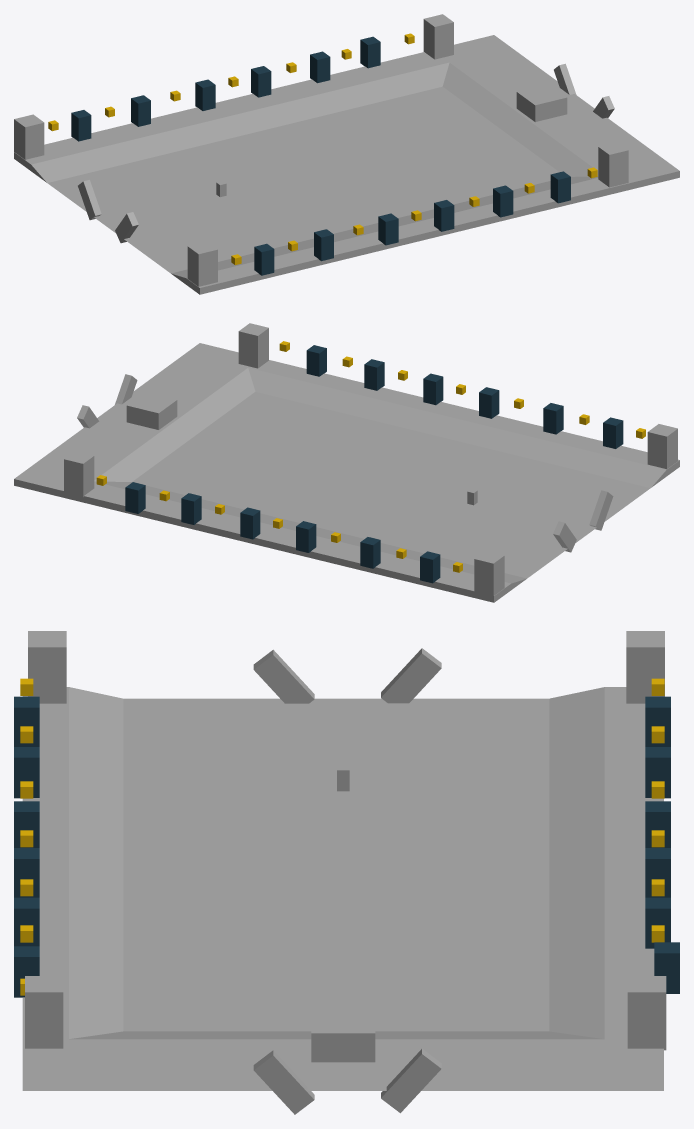
File: Escenario_Boss00.fbx
3 renders of one model, top to bottom at view 1: azimuth 30°, elevation 25°; view 2: azimuth 150°, elevation 25°; view 3: azimuth 270°, elevation 25°, orthographic. The views are drawn at different scales.
Parts seen in each view (by area): view 1: pCube1, ENEMY, pCube19, pCube18, pCube6, pCube9, pCube2, pCube5, pCube17, pCube4, pCube15, pCube28 (+8 smaller); view 2: pCube1, ENEMY, pCube9, pCube18, pCube19, pCube6, pCube39, pCube37, pCube38, pCube36, pCube28, pCube27 (+8 smaller); view 3: pCube1, ENEMY, pCube18, pCube19, pCube6, pCube9, pasted__pCube7, pasted__pCube6, pasted__pCube9, pasted__pCube8, pCube38, pCube3 (+10 smaller).
Part boxes in pixels (x1,y1,x2,y2): pCube1: [14, 35, 679, 294]; ENEMY: [516, 84, 567, 121]; pCube19: [598, 142, 628, 187]; pCube18: [423, 14, 453, 59]; pCube6: [187, 241, 217, 286]; pCube9: [14, 114, 44, 159]; pCube2: [254, 243, 274, 275]; pCube5: [378, 213, 398, 245]; pCube17: [550, 171, 570, 203]; pCube4: [434, 200, 454, 231]; pCube15: [493, 185, 513, 217]; pCube28: [360, 36, 380, 68]; pCube1: [14, 343, 679, 602]; ENEMY: [126, 392, 177, 429]; pCube9: [474, 551, 504, 597]; pCube18: [64, 451, 94, 497]; pCube19: [238, 323, 268, 368]; pCube6: [647, 424, 677, 469]; pCube39: [420, 551, 440, 583]; pCube37: [240, 507, 260, 539]; pCube38: [360, 537, 380, 568]; pCube36: [296, 521, 316, 552]; pCube28: [125, 482, 145, 513]; pCube27: [181, 493, 201, 524]; pCube1: [22, 687, 663, 1090]; ENEMY: [311, 1006, 375, 1062]; pCube18: [627, 976, 666, 1050]; pCube19: [25, 976, 63, 1048]; pCube6: [28, 631, 66, 703]; pCube9: [626, 631, 664, 703]; pasted__pCube7: [253, 1050, 314, 1114]; pasted__pCube6: [381, 1049, 441, 1113]; pasted__pCube9: [381, 648, 441, 703]; pasted__pCube8: [253, 649, 314, 703]; pCube38: [645, 747, 670, 798]; pCube3: [14, 747, 39, 798].
Bounding box in the file's own units: 74.98 × 6.77 × 51.94.
